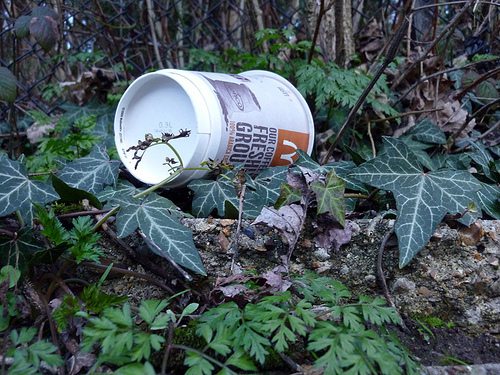litter: (113, 69, 315, 183)
